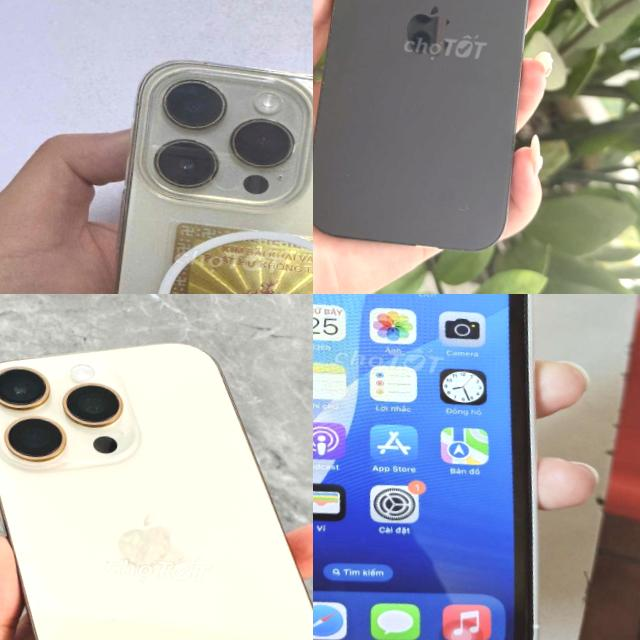gen_14: (75, 38, 313, 294)
gen_16: (0, 323, 313, 640), (313, 0, 554, 262)
gen_x_xs: (313, 294, 537, 640)
